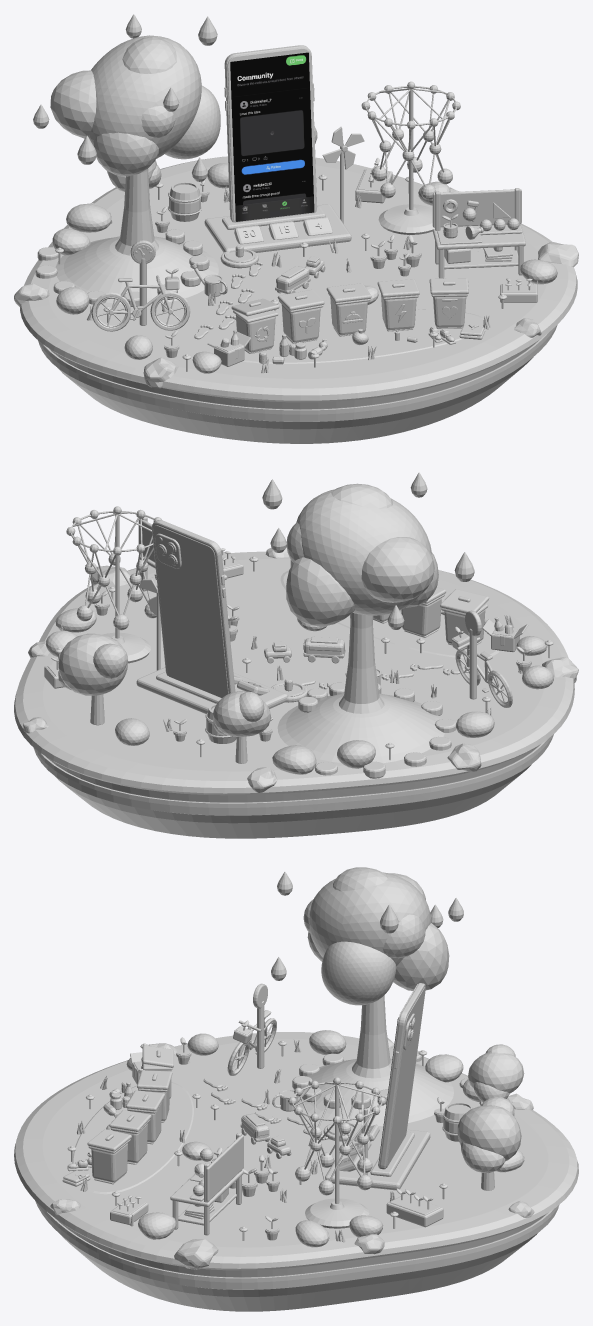
Rendered from releaf.glb.
3 views of the same model, one above another, from view 1: azimuth 30°, elevation 25°; view 2: azimuth 150°, elevation 25°; view 3: azimuth 270°, elevation 25° (orthographic). The views are drawn at different scales.
Visible parts, largest first — view 1: static, phone_screen, knowledge_graph, water_drops_b, water_drops_a, pinwheel; view 2: static, knowledge_graph, water_drops_b, bin_recycle_lid, water_drops_a; view 3: static, knowledge_graph, water_drops_b, bin_recycle_lid.
Boxes of the visible parts, x1=… form: static: x1=14, y1=35, x2=578, y2=443; phone_screen: x1=230, y1=52, x2=314, y2=221; knowledge_graph: x1=361, y1=81, x2=460, y2=209; water_drops_b: x1=33, y1=16, x2=217, y2=128; water_drops_a: x1=77, y1=14, x2=207, y2=181; pinwheel: x1=322, y1=126, x2=364, y2=169; static: x1=14, y1=483, x2=578, y2=838; knowledge_graph: x1=66, y1=506, x2=161, y2=638; water_drops_b: x1=262, y1=472, x2=427, y2=629; bin_recycle_lid: x1=440, y1=589, x2=489, y2=613; water_drops_a: x1=270, y1=528, x2=474, y2=581; static: x1=14, y1=867, x2=578, y2=1311; knowledge_graph: x1=288, y1=1077, x2=386, y2=1203; water_drops_b: x1=277, y1=872, x2=443, y2=933; bin_recycle_lid: x1=142, y1=1045, x2=173, y2=1067.
Size of the model in its own units: 10.66 by 6.8 by 10.87.
2 materials, 1 textured.
